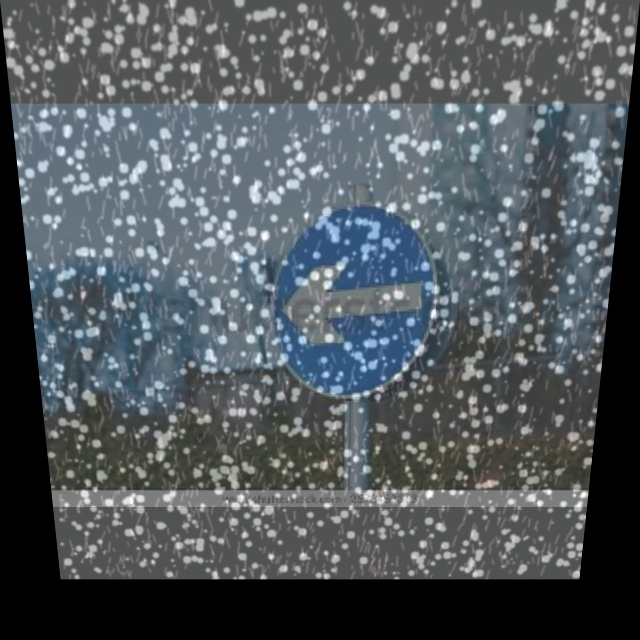Compulsory_Turn_Left: (268, 202, 453, 405)
